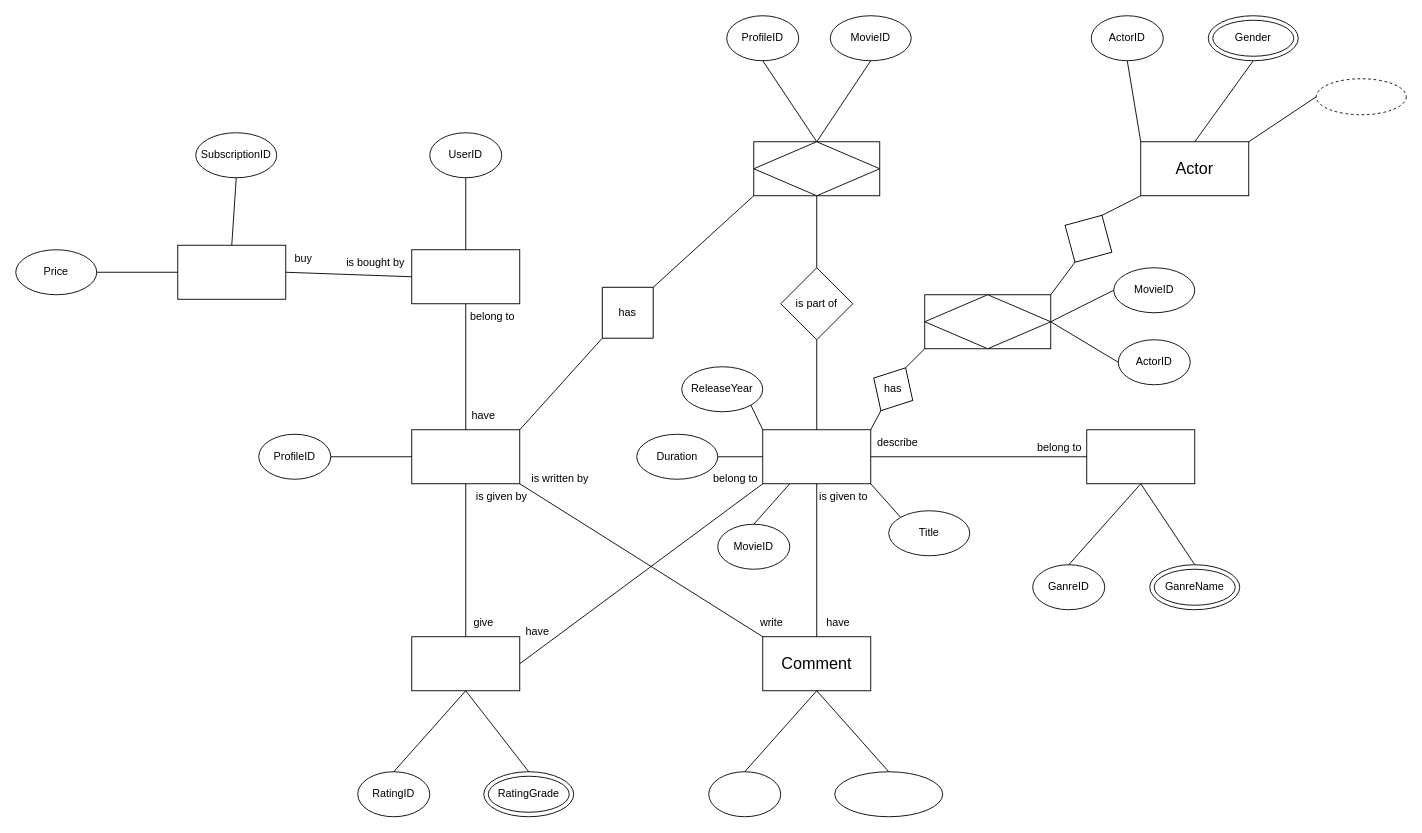
This 1422x833 diagram has some shape labels left out. Each missing label, with the box of its shape:
CommendID: (708, 771, 781, 817)
CommentMessage: (834, 771, 943, 817)
FullName: (1315, 78, 1406, 115)
Ganre: (1086, 429, 1195, 484)
is member of: (1050, 201, 1125, 276)
Movie: (762, 429, 871, 484)
MovieActor: (924, 294, 1051, 349)
Rating: (411, 636, 520, 691)
Subscription: (177, 244, 286, 299)
User: (411, 249, 520, 304)
UserProfile: (411, 429, 520, 484)
Watchlist: (753, 141, 880, 196)
